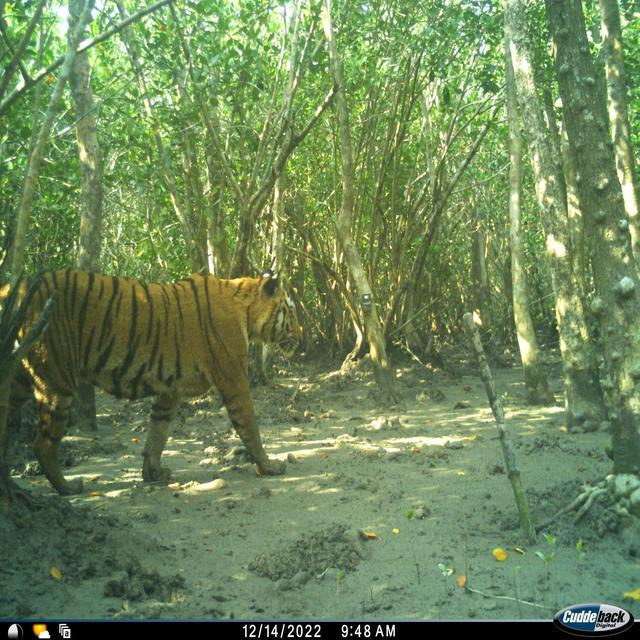tiger: (0, 266, 304, 499)
